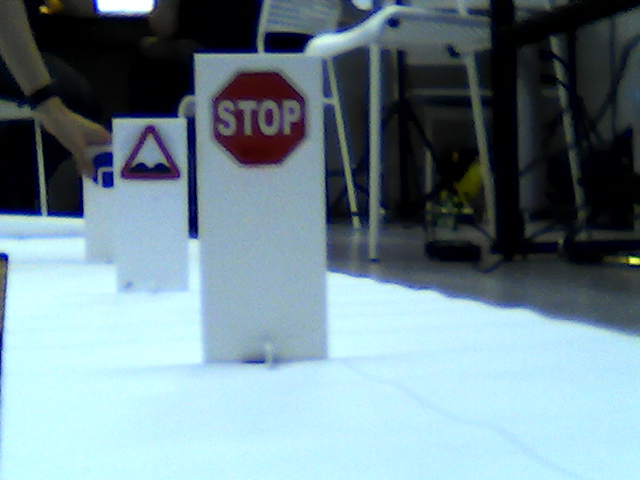Nerov: (121, 124, 185, 185)
Right: (90, 150, 114, 187)
Stop: (208, 66, 312, 170)
